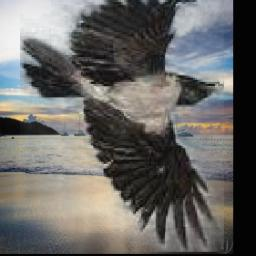Crow: (20, 0, 224, 253)
